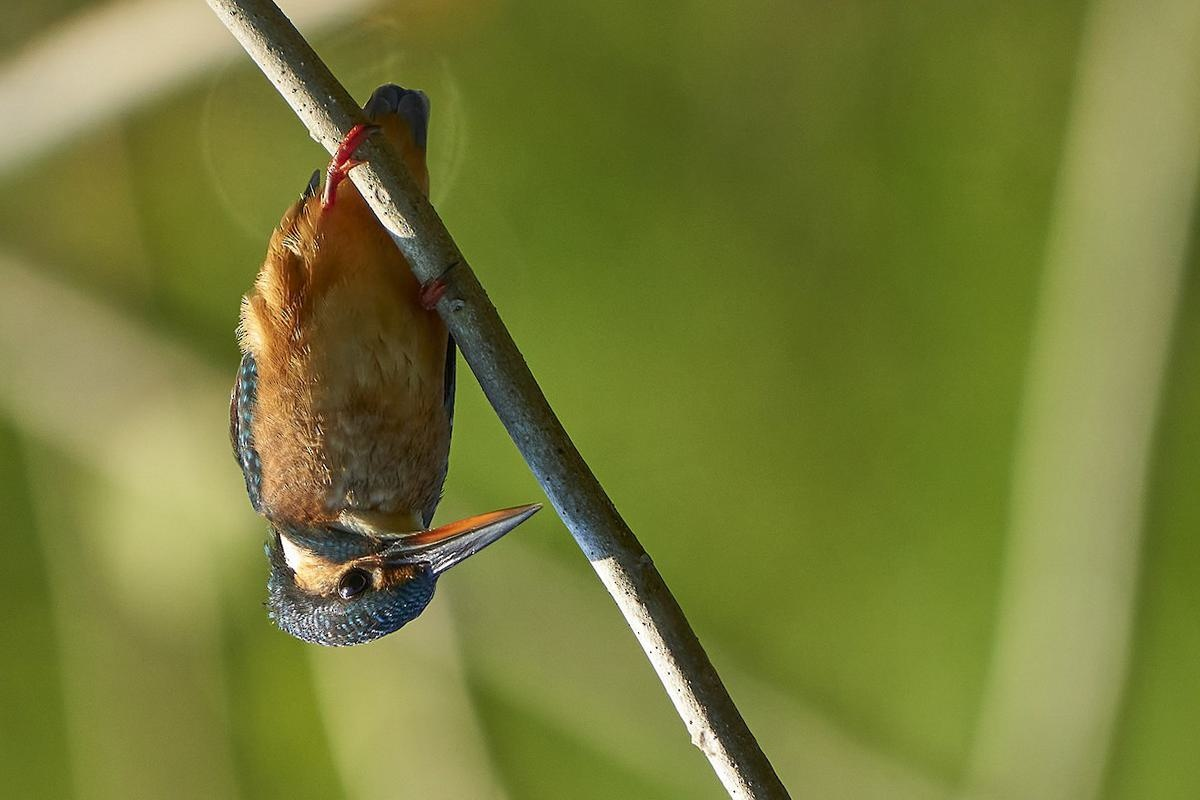kingfisher: (213, 84, 554, 657)
